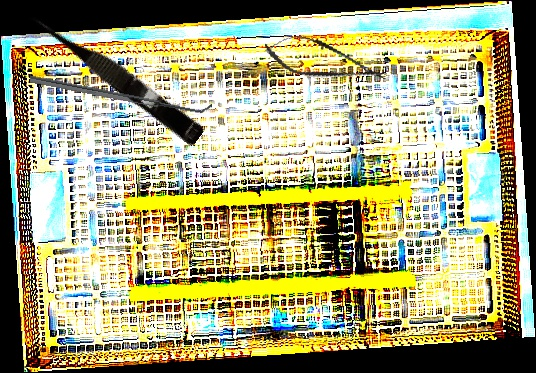Micro Scissor: (24, 3, 209, 148), (260, 26, 391, 96)
Spatula Surgical: (29, 68, 213, 118)
